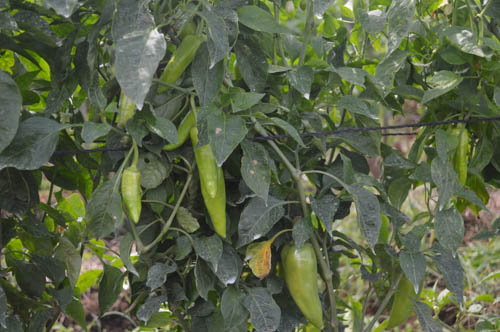ChiliPepper: (288, 247, 325, 327), (189, 160, 227, 237), (157, 36, 206, 91), (189, 124, 217, 197), (164, 106, 207, 150), (387, 273, 417, 329), (122, 167, 144, 220), (451, 128, 470, 187)
